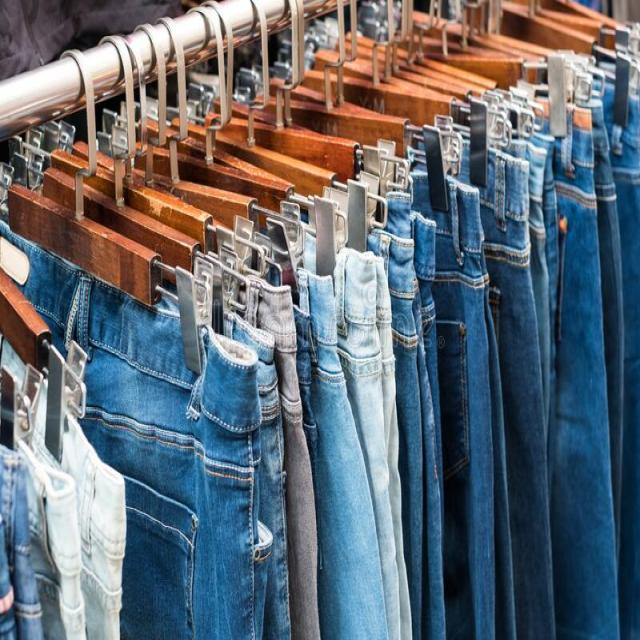clothes: (302, 122, 626, 612)
